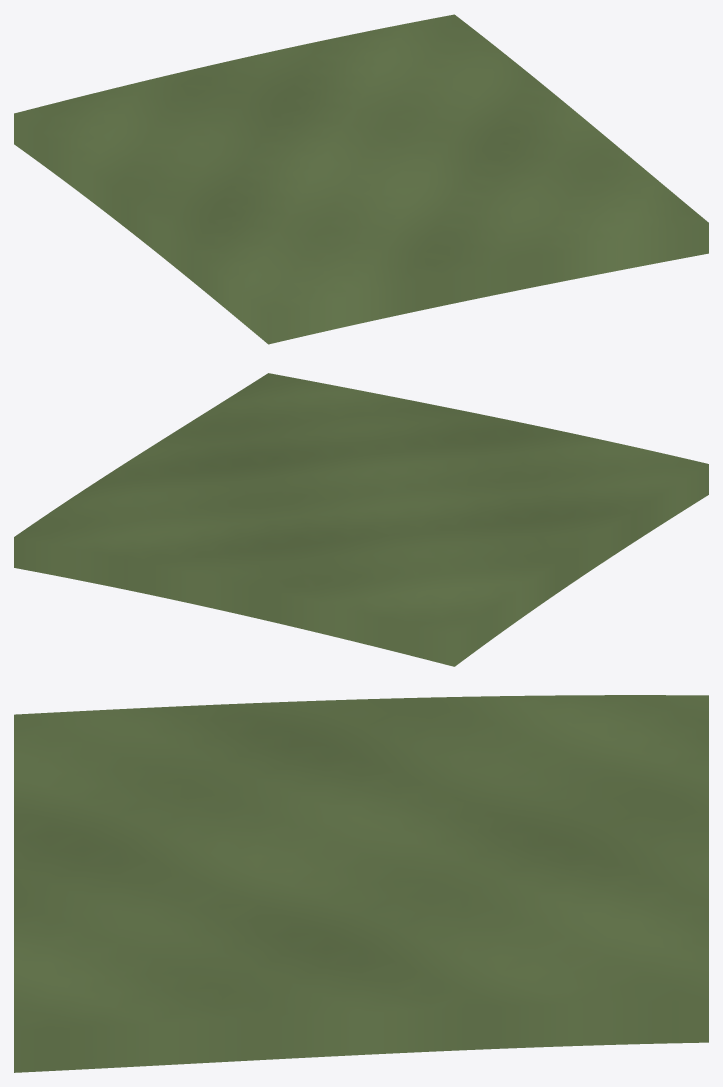
3 views of the same model, one above another, from view 1: azimuth 30°, elevation 25°; view 2: azimuth 150°, elevation 25°; view 3: azimuth 270°, elevation 25° (orthographic). The views are drawn at different scales.
Visible parts, largest first — view 1: terrain; view 2: terrain; view 3: terrain.
Boxes of the visible parts, box(x1,y1,x2,y2) form: terrain: box(14, 14, 708, 344); terrain: box(14, 373, 708, 666); terrain: box(14, 695, 708, 1072).
Bounding box in the file's own units: 30 × 4.04 × 30.
